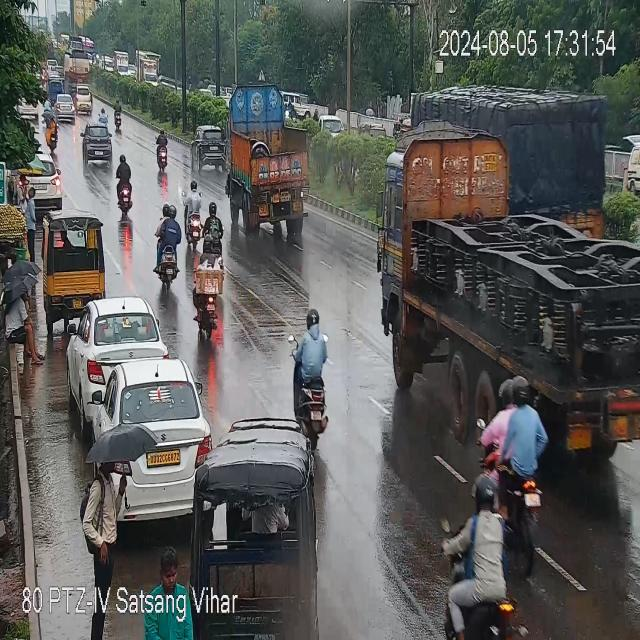2-wheelers: (449, 473, 511, 640), (484, 374, 548, 516), (297, 304, 337, 437), (193, 243, 227, 337), (151, 206, 184, 292), (182, 182, 205, 249), (115, 158, 138, 220), (201, 200, 224, 248), (153, 130, 177, 171), (115, 98, 122, 130), (97, 107, 108, 126)
auto: (197, 436, 323, 640), (44, 212, 112, 310), (72, 84, 97, 112), (50, 78, 62, 106)
car: (100, 354, 208, 514), (68, 298, 165, 408), (12, 153, 64, 207), (77, 122, 117, 164), (193, 122, 230, 164), (52, 92, 80, 122)
pedestrian: (91, 458, 118, 582), (5, 293, 46, 366), (16, 180, 42, 250), (154, 553, 192, 589)
truck: (380, 115, 636, 442), (416, 91, 614, 238), (228, 89, 320, 236), (136, 48, 160, 86), (62, 46, 90, 78)
